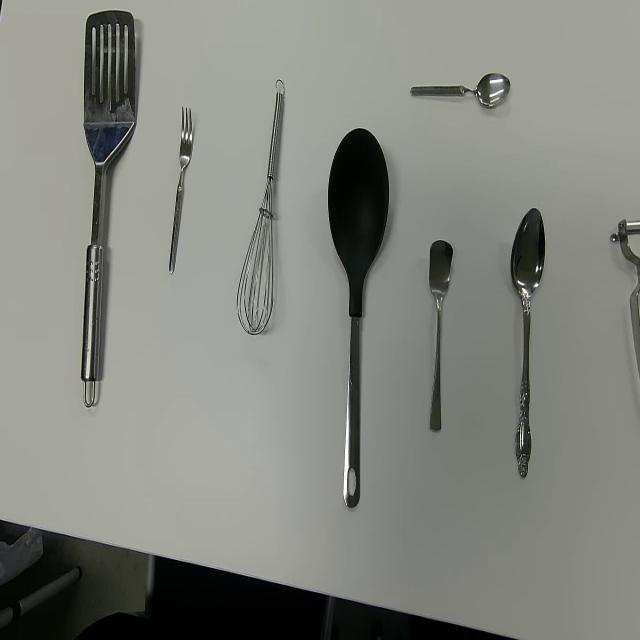Desert-Spoon: (511, 206, 546, 481)
Dinner-Fork: (169, 106, 193, 274)
Peeler: (608, 218, 640, 380)
Serving-Spoon: (327, 127, 391, 510), (80, 9, 137, 409)
Tea-Spoon: (428, 239, 454, 433), (410, 70, 511, 110)
Whisk: (236, 78, 286, 336)
